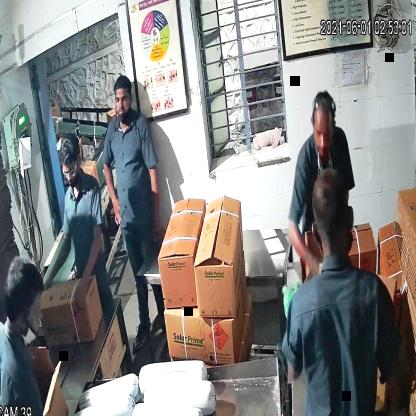goggles: (59, 156, 82, 182)
no_goggles: (308, 121, 336, 146)
